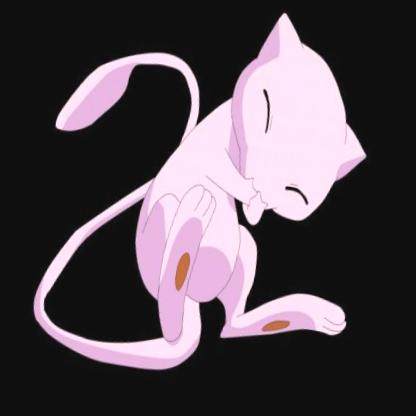Mew: (49, 0, 388, 415)
